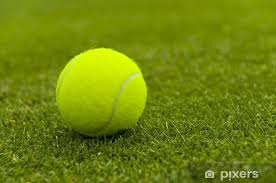tennis_ball: (53, 46, 147, 137)
